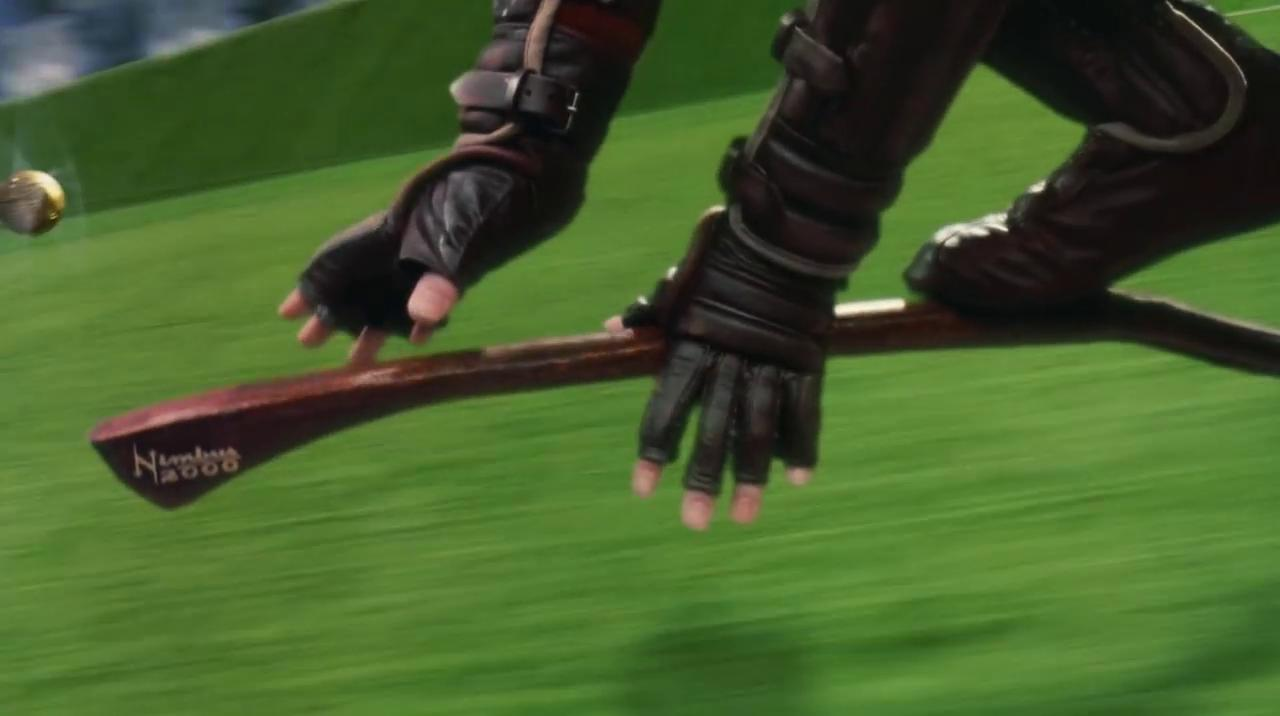snitch: (1, 170, 69, 237)
